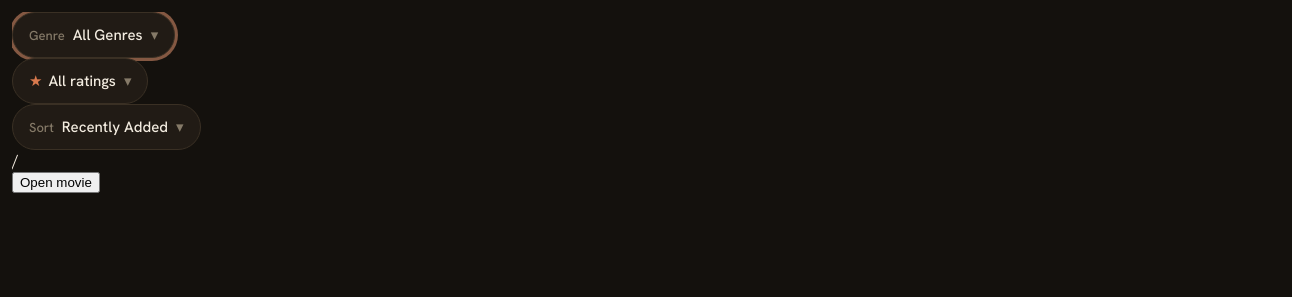
Test case: LibraryFilters — choosing a genre › writes the chosen genre into the URL
Click the button "Genre All Genres ▾": (94, 35) x1=12 y1=12 x2=175 y2=58
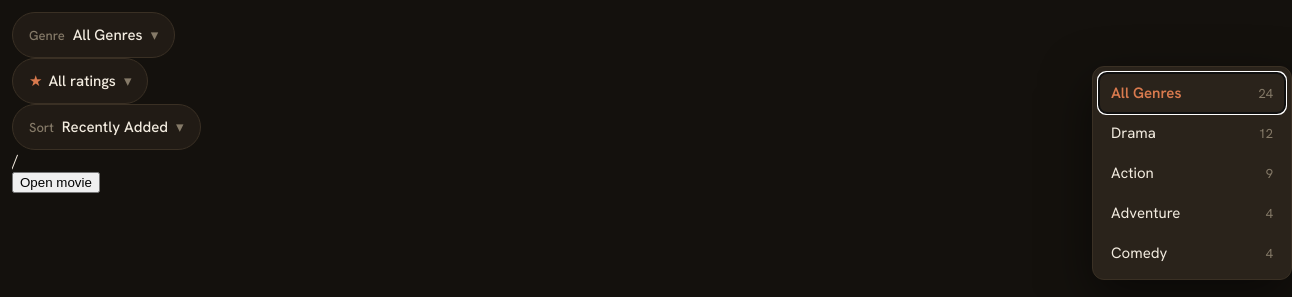
Click the menu item "Drama 12": (1192, 133) x1=1099 y1=113 x2=1285 y2=153
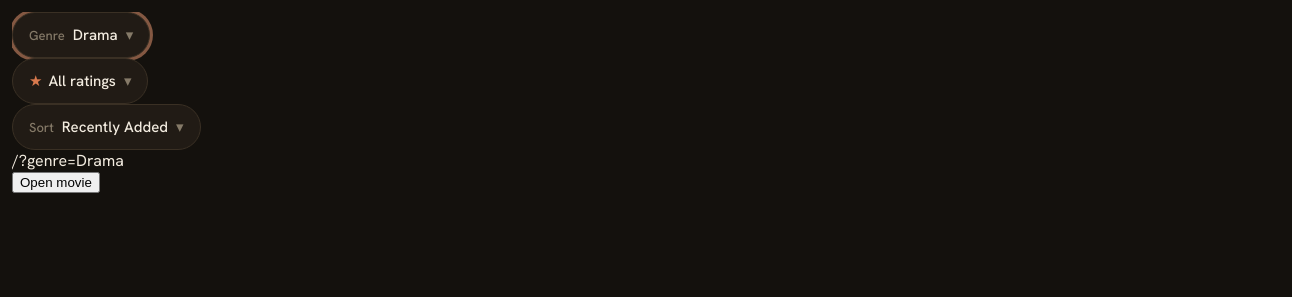
Result: the text with test id "url" reads "/?genre=Drama" at x1=12 y1=150 x2=124 y2=171
